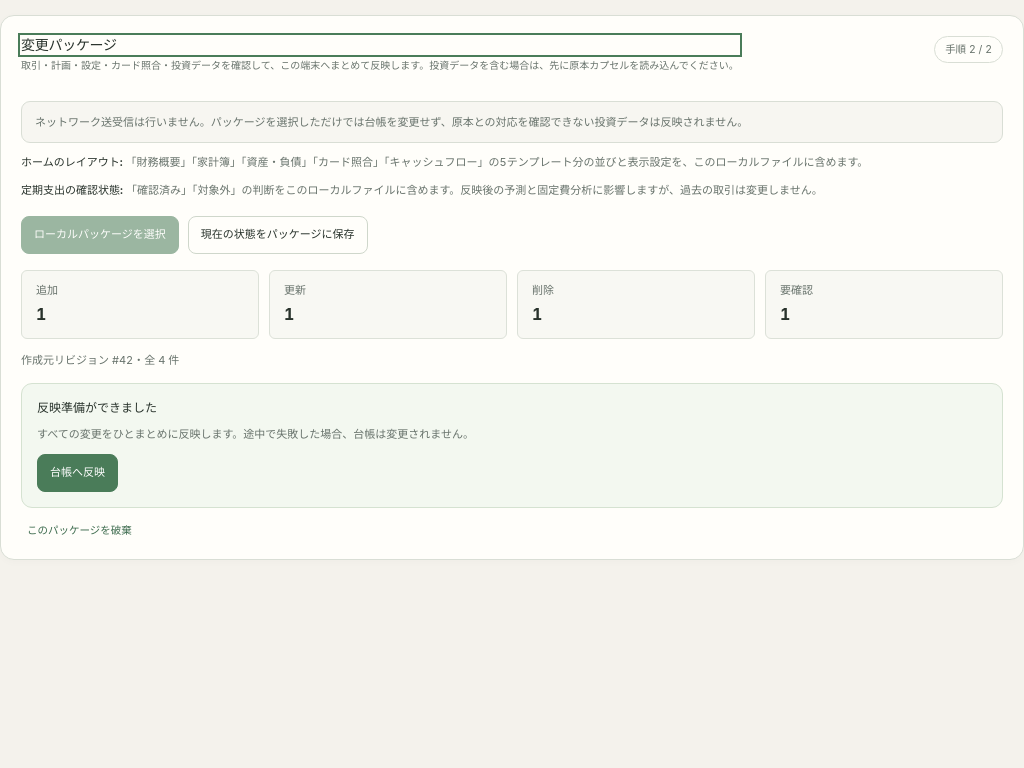
Test: LocalChangePackagePanel › applies a ready package only after the separate final action
This screenshot has width=1024, height=768.
What coordinates should you click on to do the following:
click the button "台帳へ反映"
I would click on:
 (78, 473)
Its box is [37,454,118,492].
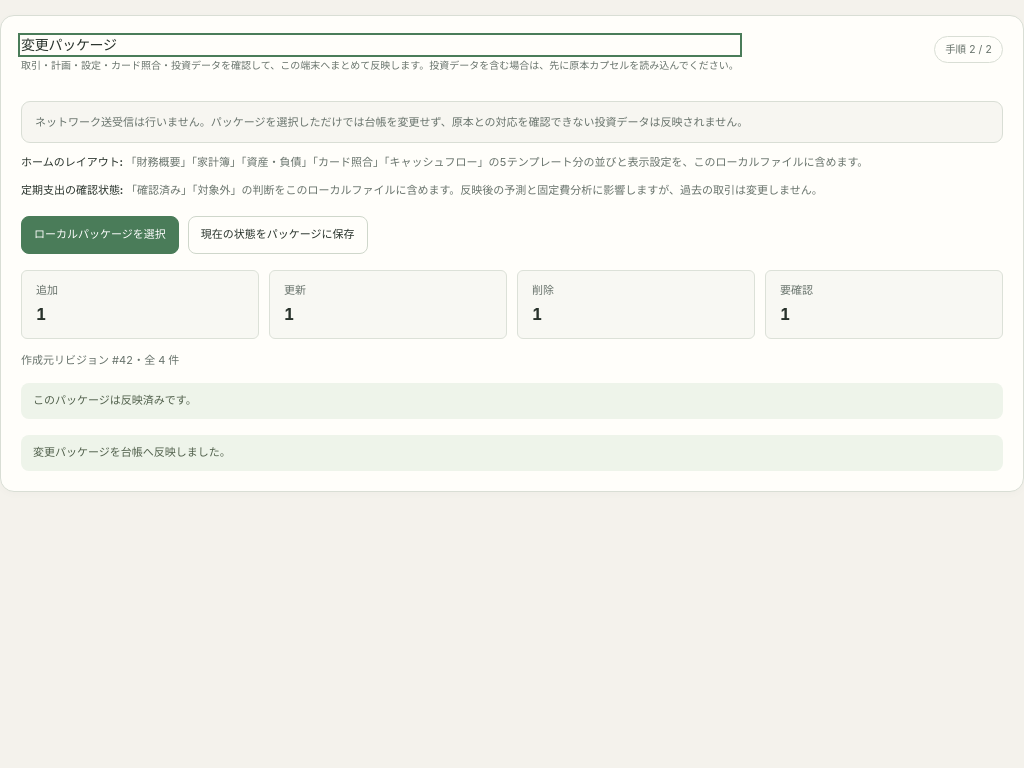
Expected: the text "このパッケージは反映済みです。" is shown, [21,383,1003,419]
